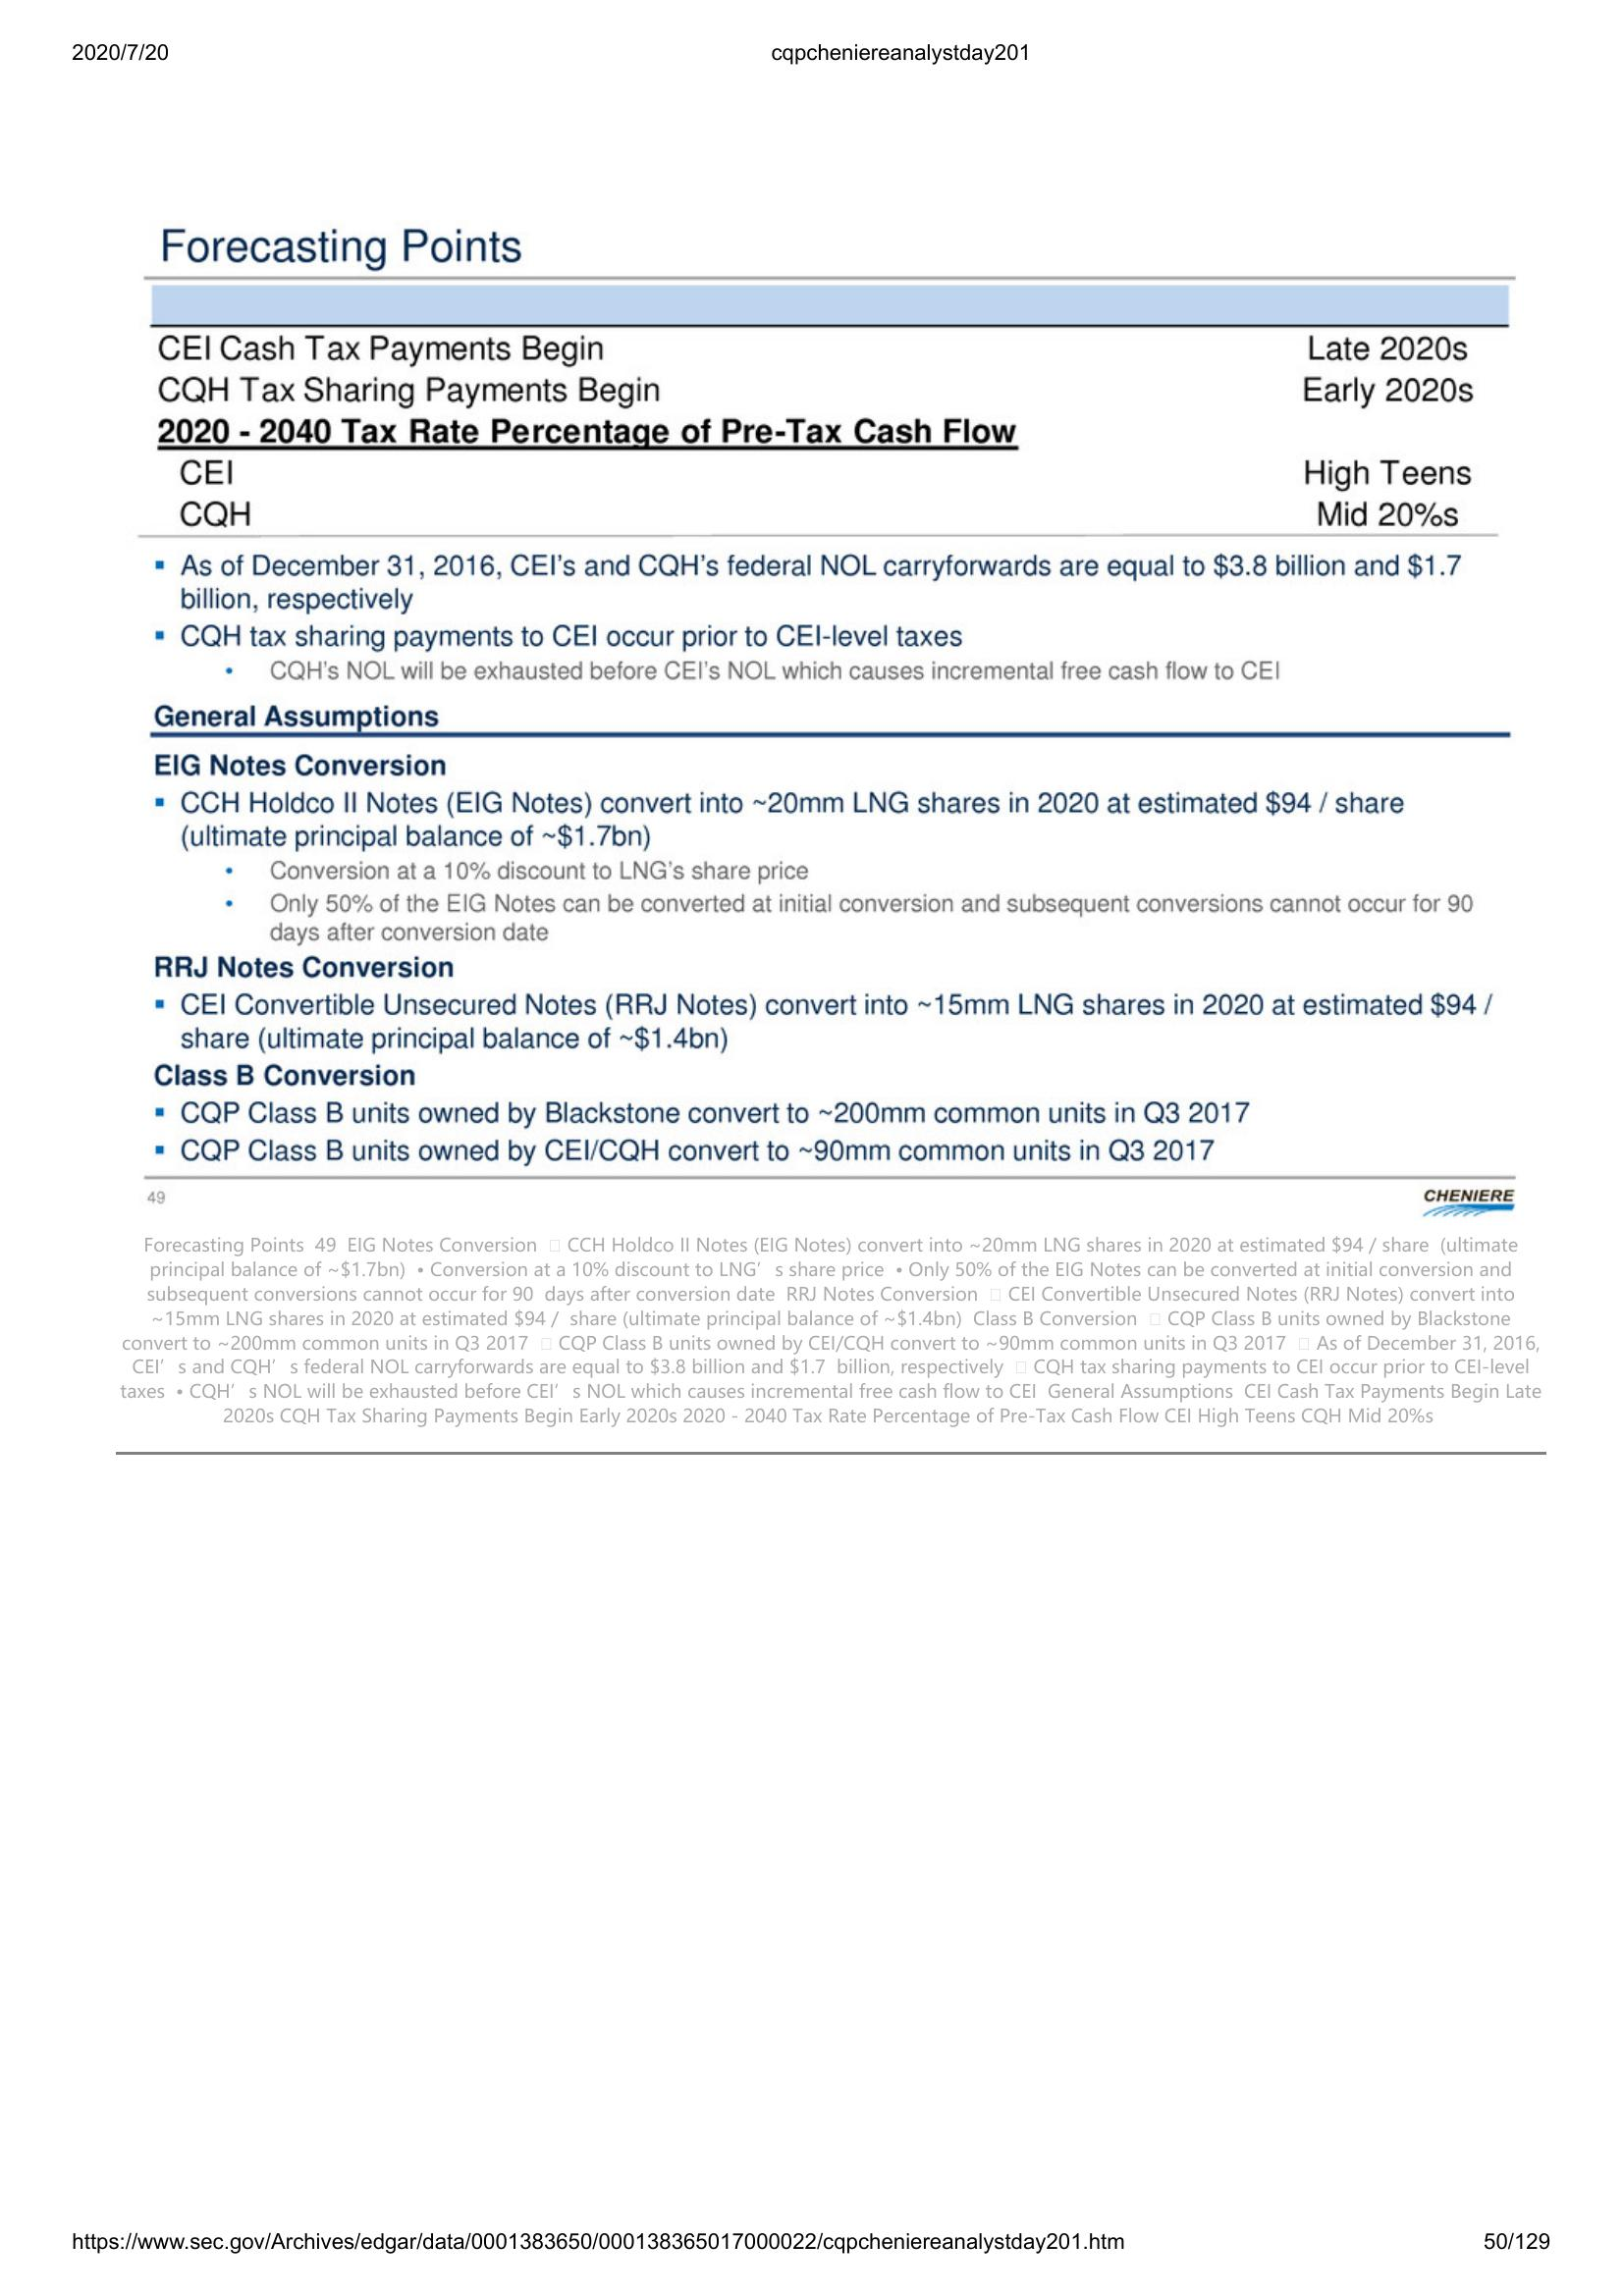table: (146, 321, 1498, 534)
